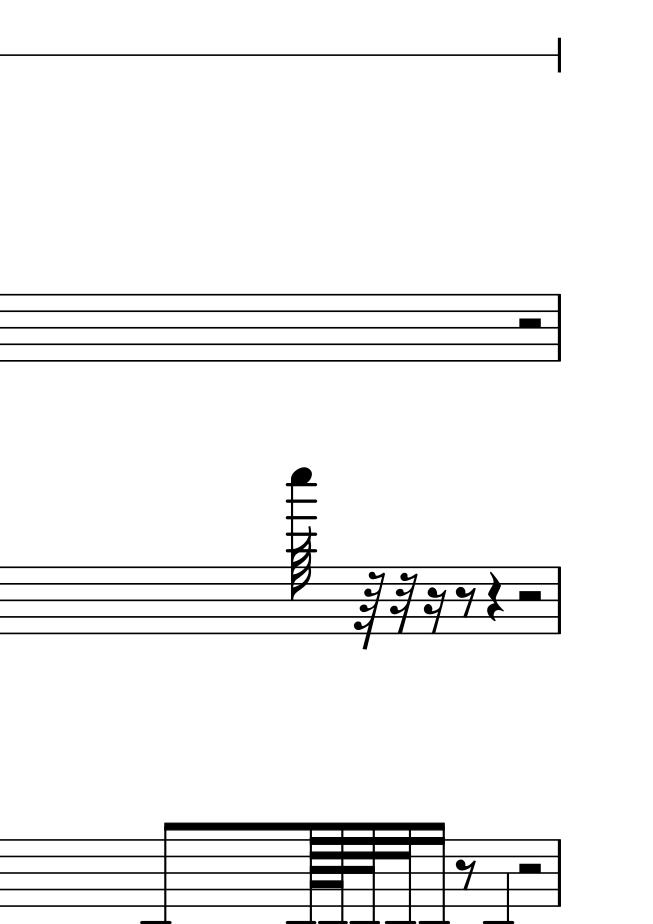64_19: (286, 466, 315, 637)
Rests16: (423, 586, 447, 636)
Rests2: (514, 315, 544, 334), (515, 587, 545, 606), (515, 859, 545, 877)
Rests32: (389, 572, 418, 636)
Rests4: (484, 571, 503, 624)
Rests64: (353, 567, 388, 652)
Rests8: (454, 856, 476, 890), (455, 584, 476, 618)
Single_barline: (550, 294, 568, 361), (552, 838, 567, 909), (552, 566, 566, 633)
